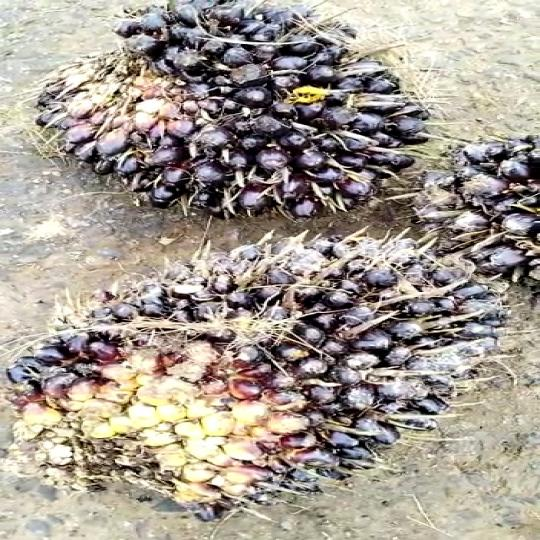mentah: (19, 233, 501, 532), (38, 0, 442, 222)
